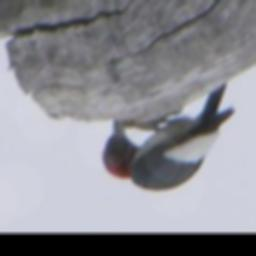Woodpecker: (97, 80, 240, 195)
